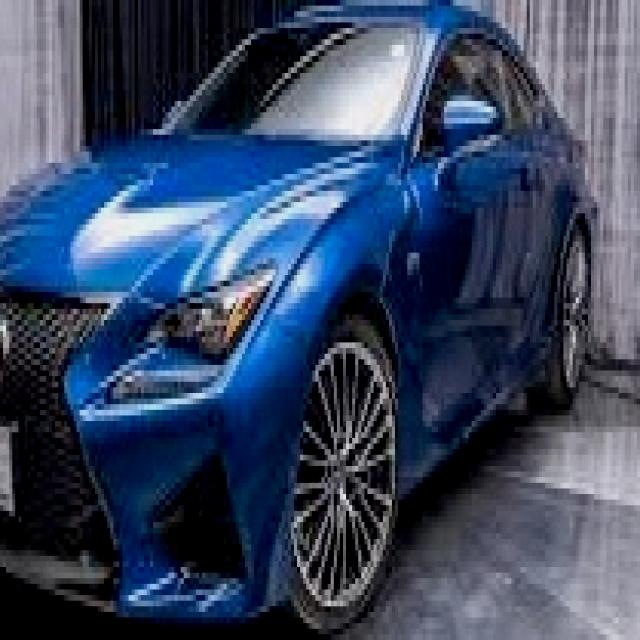blue: (3, 0, 609, 640)
